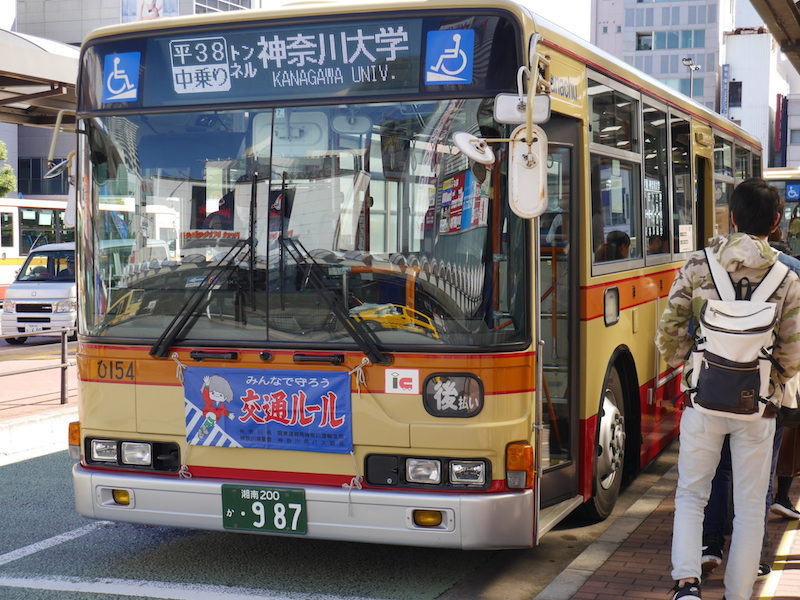destination: (141, 16, 423, 107)
